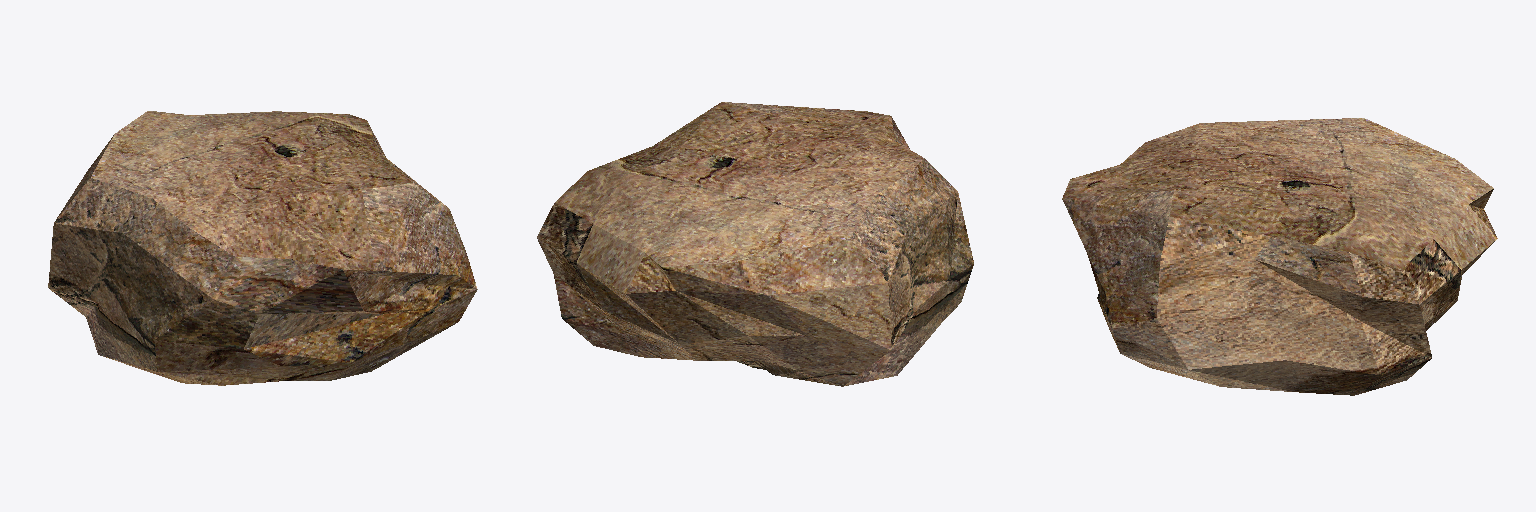
3 renders of one model, left to right at view 1: azimuth 30°, elevation 25°; view 2: azimuth 150°, elevation 25°; view 3: azimuth 270°, elevation 25°, orthographic.
Visible parts, largest first — view 1: Cube; view 2: Cube; view 3: Cube.
Boxes of the visible parts, x1=… form: Cube: x1=48, y1=111, x2=477, y2=385; Cube: x1=537, y1=102, x2=973, y2=386; Cube: x1=1062, y1=118, x2=1497, y2=395.
Bounding box in the file's own units: 3.18 × 1.68 × 3.63.
1 materials, 1 textured.